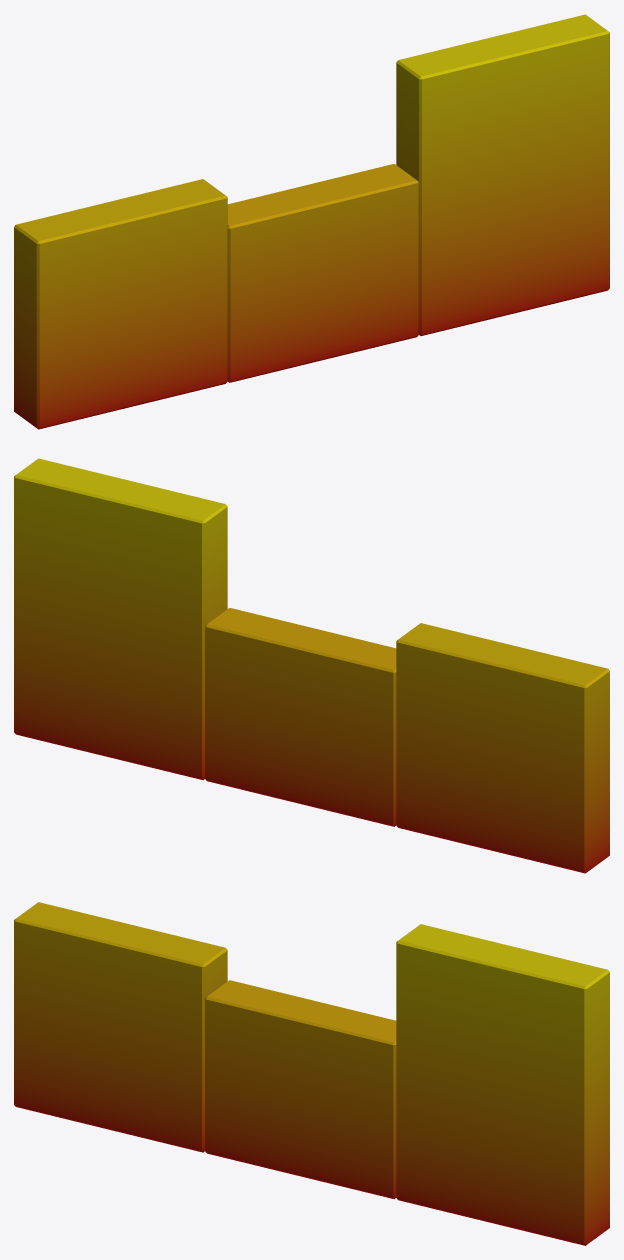
The model's file is mural_panel_broken.glb.
The picture shows the model from 3 angles, top to bottom: view 1: azimuth 30°, elevation 25°; view 2: azimuth 150°, elevation 25°; view 3: azimuth 330°, elevation 25°; orthographic projection.
Visible parts, largest first — view 1: mural_panel_broken; view 2: mural_panel_broken; view 3: mural_panel_broken.
Part boxes in pixels (box(x1,y1,x2,y2)): mural_panel_broken: box(14, 14, 609, 429); mural_panel_broken: box(14, 458, 609, 873); mural_panel_broken: box(14, 902, 609, 1245).
Size of what is drawn, in the model's own units: 4 by 1.73 by 0.3.
